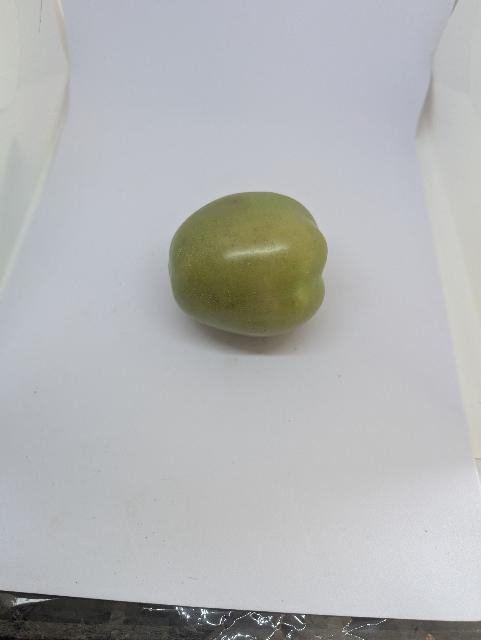green: (148, 171, 363, 371)
